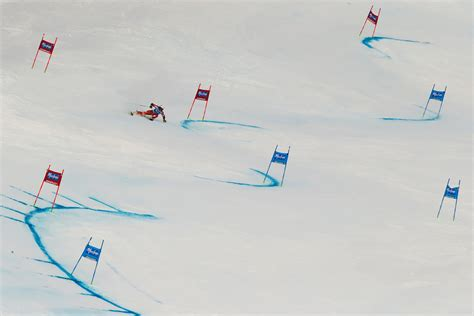skier: (121, 93, 172, 126)
